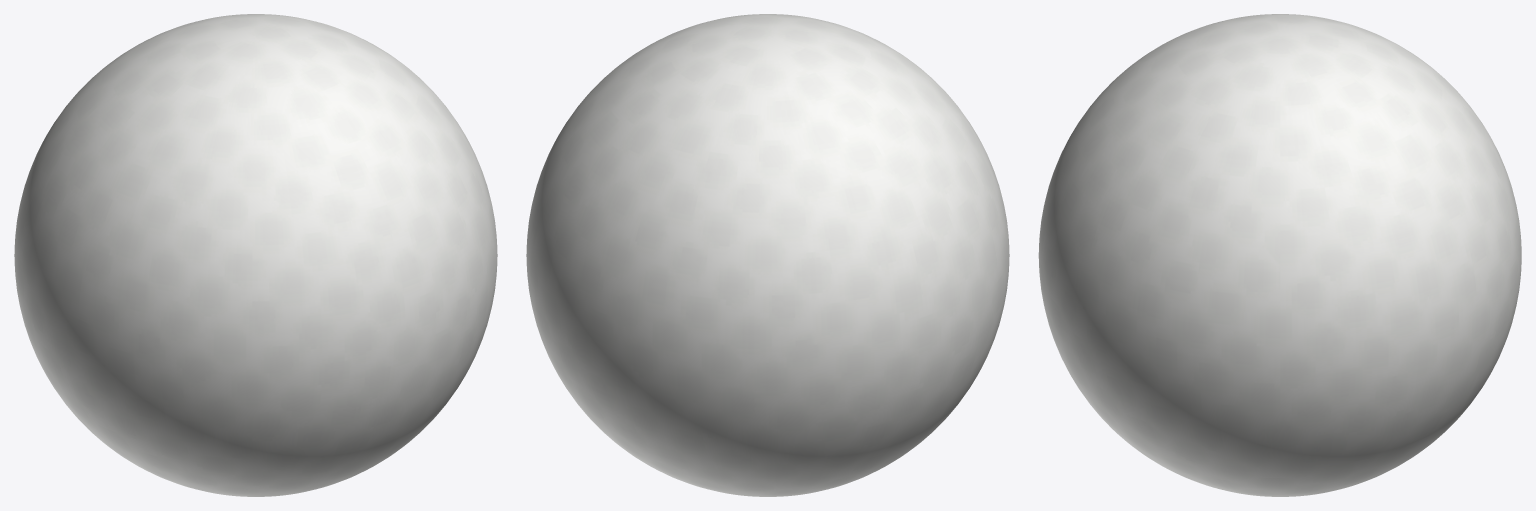
The model's file is ball-golf.glb.
3 renders of one model, left to right at view 1: azimuth 30°, elevation 25°; view 2: azimuth 150°, elevation 25°; view 3: azimuth 270°, elevation 25°, orthographic.
Visible parts, largest first — view 1: Ball; view 2: Ball; view 3: Ball.
Part boxes in pixels (x1,y1,x2,y2): Ball: (14,14,497,496); Ball: (526,14,1009,496); Ball: (1038,14,1521,496).
Bounding box in the file's own units: 0.0427 × 0.0427 × 0.0427.
2 materials, 2 textured.
